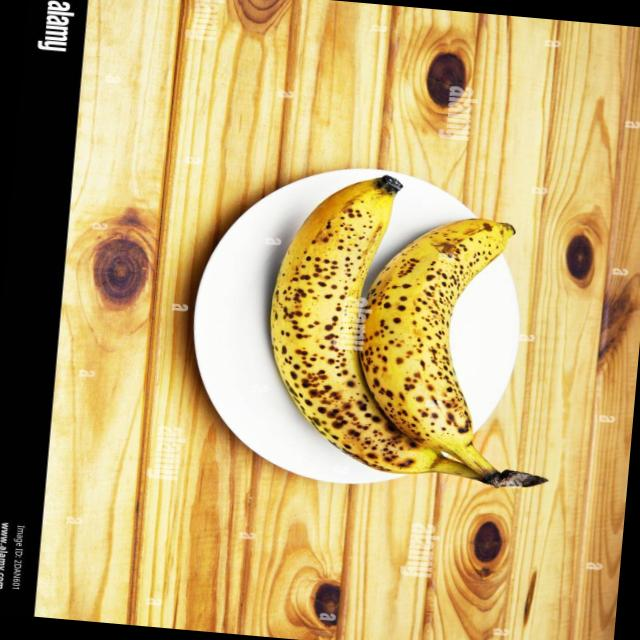Platano: (255, 166, 568, 492)
